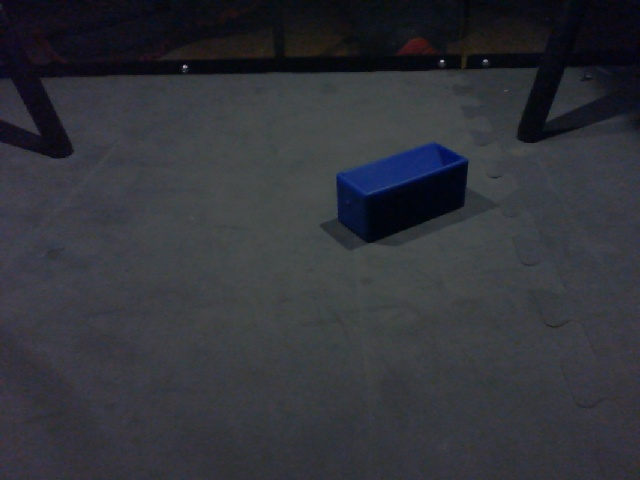BlueSample: (331, 138, 471, 245)
